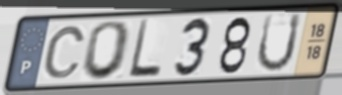3: (171, 15, 212, 79)
8: (218, 15, 252, 75)
C: (41, 24, 88, 81)
L: (126, 18, 164, 81)
O: (79, 19, 134, 82)
U: (254, 11, 304, 75)
